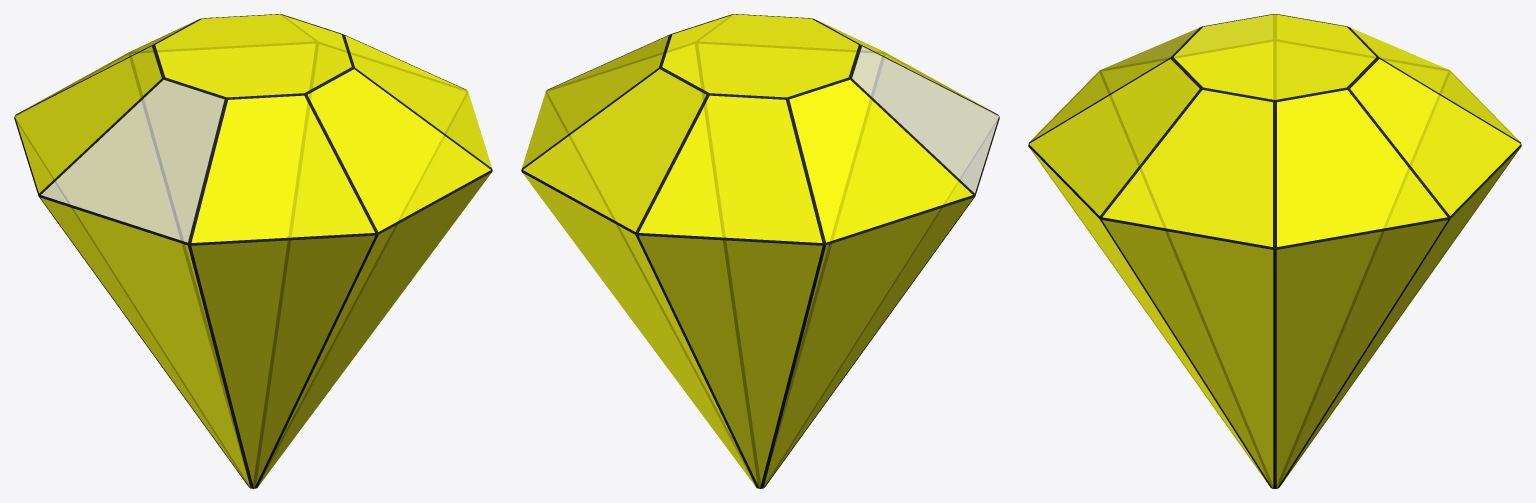
File: diamond_yelloe.fbx
3 views of the same model, side by side, from view 1: azimuth 30°, elevation 25°; view 2: azimuth 150°, elevation 25°; view 3: azimuth 270°, elevation 25° (orthographic).
Visible parts, largest first — view 1: Cylinder; view 2: Cylinder; view 3: Cylinder.
Part boxes in pixels (bbox=[...]): Cylinder: bbox=[14, 14, 492, 488]; Cylinder: bbox=[521, 14, 999, 488]; Cylinder: bbox=[1028, 14, 1521, 488].
Size of the model in its own units: 191 by 184 by 191.
